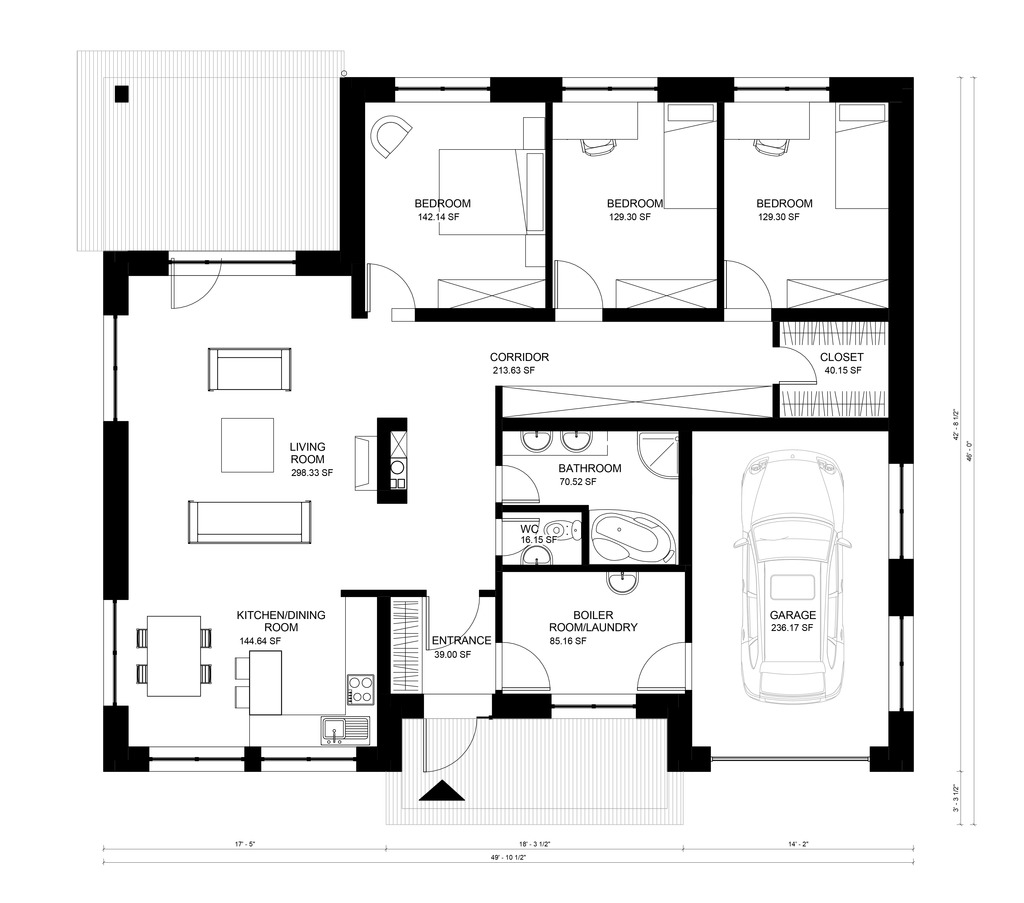bed: (430, 138, 554, 242), (826, 100, 895, 213), (658, 103, 714, 210)
dining_table: (125, 610, 223, 704)
door: (425, 589, 486, 660), (547, 256, 609, 322), (489, 636, 558, 695), (418, 711, 480, 775), (624, 641, 697, 695), (159, 254, 219, 316), (726, 263, 778, 322), (767, 342, 827, 390), (491, 459, 547, 508), (368, 263, 414, 322), (491, 515, 540, 559)
large_sink: (541, 518, 589, 539)
large_sofa: (181, 489, 333, 547), (197, 340, 300, 392)
sink: (307, 711, 382, 745)
small_sink: (503, 428, 617, 464), (603, 571, 654, 597), (509, 541, 561, 565)
window: (875, 445, 924, 569), (884, 609, 920, 716), (395, 75, 503, 109), (729, 76, 826, 103), (563, 78, 661, 101)
